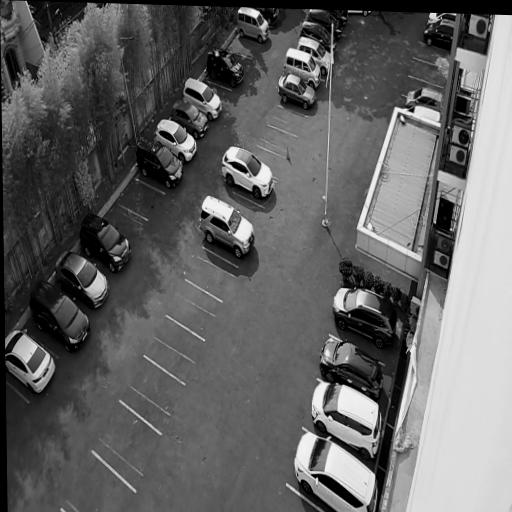Car: (286, 424, 381, 512), (304, 378, 386, 465), (23, 276, 95, 353), (327, 282, 400, 355), (312, 333, 387, 403), (195, 194, 260, 260), (74, 210, 137, 278), (50, 247, 114, 312), (5, 327, 60, 396), (218, 145, 277, 201), (133, 134, 187, 190), (151, 118, 200, 165), (181, 76, 226, 121), (203, 44, 247, 89), (168, 97, 211, 140), (274, 70, 318, 111), (282, 47, 322, 91), (296, 36, 331, 77), (298, 21, 339, 55), (236, 7, 271, 44), (306, 9, 345, 42), (421, 19, 455, 52), (404, 87, 444, 112), (403, 105, 440, 123), (426, 13, 457, 25)
Space Available: (92, 400, 161, 491), (119, 355, 185, 433), (62, 450, 136, 512), (143, 314, 205, 385), (166, 279, 222, 340), (185, 246, 238, 301), (119, 178, 164, 219), (256, 124, 298, 158), (108, 203, 148, 238), (227, 191, 265, 224), (268, 105, 307, 137), (409, 58, 447, 88), (414, 42, 450, 70), (252, 144, 286, 169), (403, 76, 444, 94), (229, 36, 261, 59), (205, 81, 232, 99)
